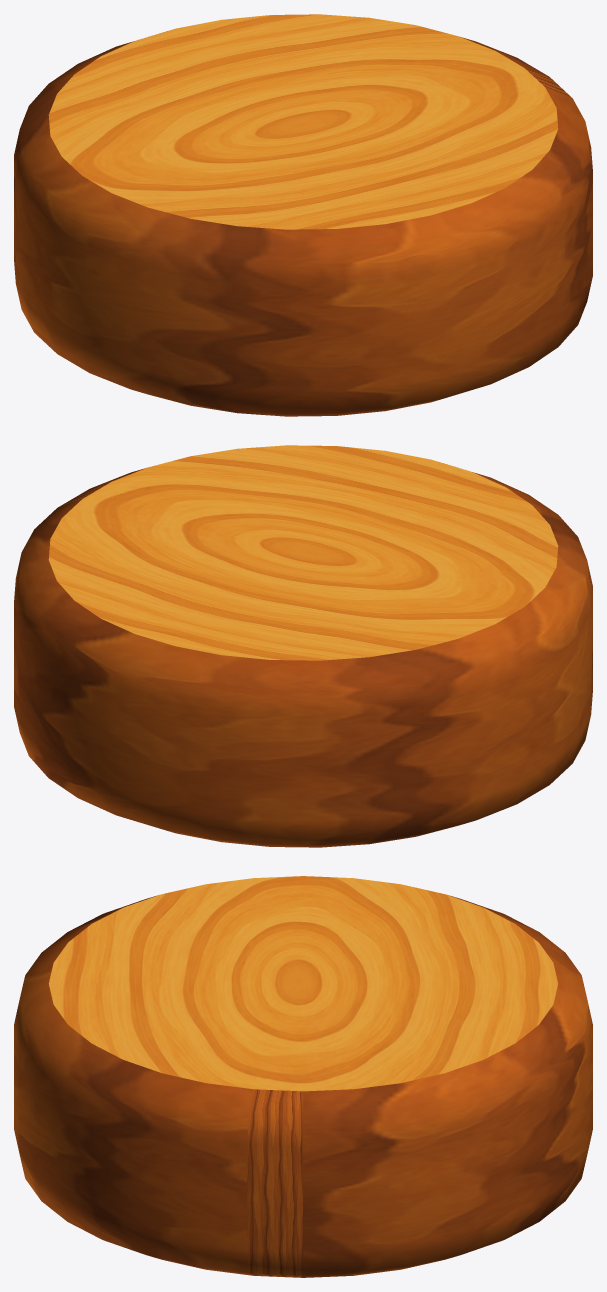
Rendered from wood_segment_tall-CgOR_ohb.glb.
3 views of the same model, one above another, from view 1: azimuth 30°, elevation 25°; view 2: azimuth 150°, elevation 25°; view 3: azimuth 270°, elevation 25° (orthographic).
Visible parts, largest first — view 1: FLC_wood_segment_tall; view 2: FLC_wood_segment_tall; view 3: FLC_wood_segment_tall.
Part boxes in pixels (x1,y1,x2,y2): FLC_wood_segment_tall: (14,14,592,416); FLC_wood_segment_tall: (14,445,592,847); FLC_wood_segment_tall: (14,876,592,1277).
Size of the model in its own units: 0.9 by 0.32 by 0.9.
1 material, 1 textured.
